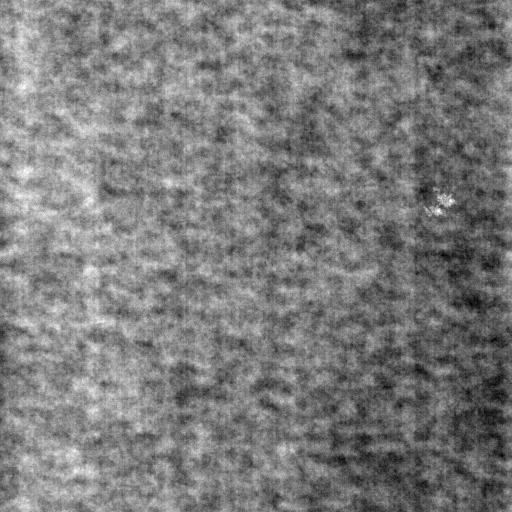DefectTypeA: (423, 182, 464, 219)
